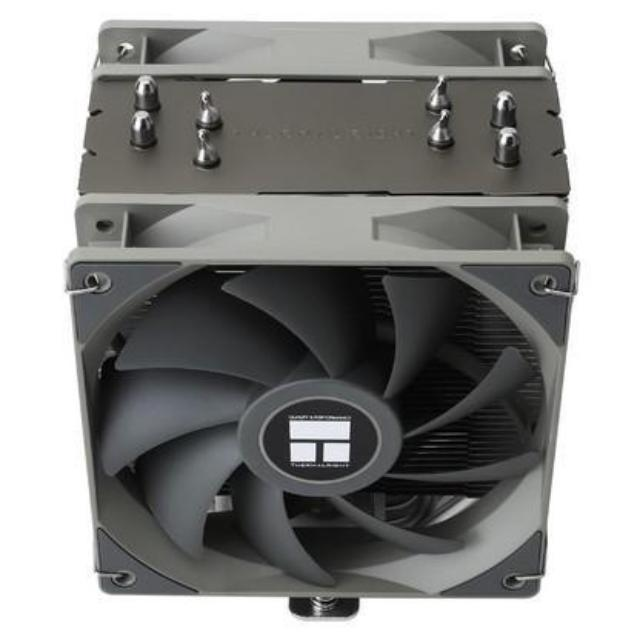CPU_Fan: (64, 1, 572, 616)
